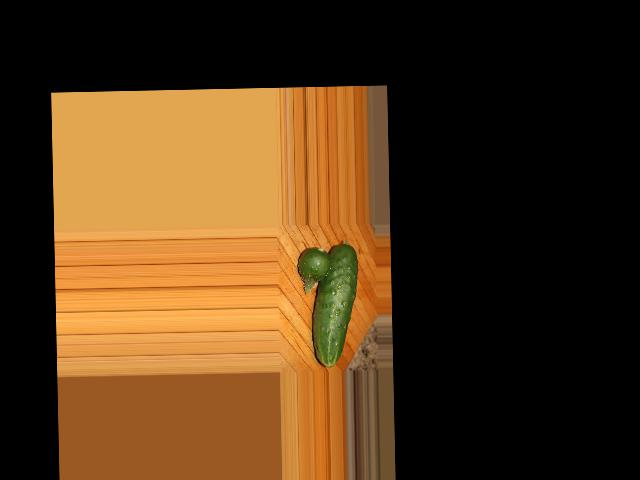cucumber: (310, 243, 359, 367)
